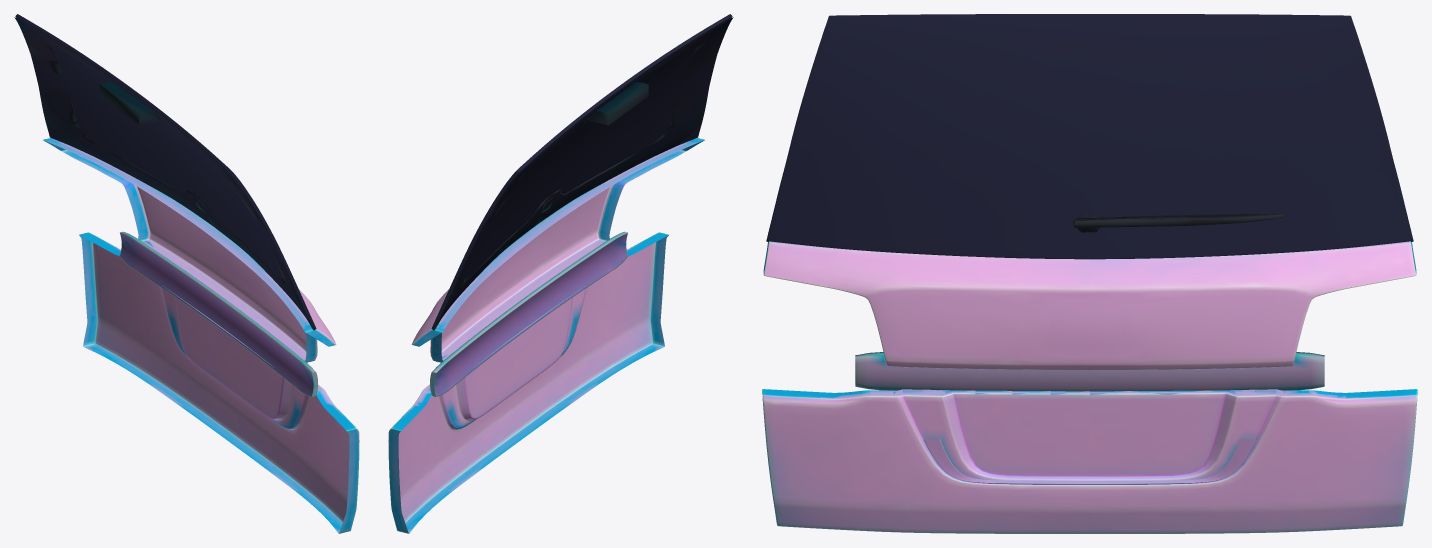
The model's file is tailgate.glb.
The picture shows the model from 3 angles, left to right: view 1: azimuth 30°, elevation 25°; view 2: azimuth 150°, elevation 25°; view 3: azimuth 270°, elevation 25°; orthographic projection. The views are drawn at different scales.
Parts seen in each view (by area): view 1: carpaint_6, windowglass_39, Garnish, black_11, black_12; view 2: carpaint_6, windowglass_39, Garnish, black_11, black_12; view 3: carpaint_6, windowglass_39, Garnish, chrome_4, black_12.
Boxes of the visible parts, <box> form: carpaint_6: <box>43,138,359,533</box>; windowglass_39: <box>15,14,316,330</box>; Garnish: <box>120,231,317,396</box>; black_11: <box>14,17,314,330</box>; black_12: <box>99,82,207,213</box>; carpaint_6: <box>388,138,704,533</box>; windowglass_39: <box>431,14,732,330</box>; Garnish: <box>430,231,627,396</box>; black_11: <box>433,17,733,330</box>; black_12: <box>541,82,648,212</box>; carpaint_6: <box>762,241,1417,533</box>; windowglass_39: <box>767,14,1412,259</box>; Garnish: <box>855,352,1324,391</box>; chrome_4: <box>893,389,1285,484</box>; black_12: <box>1073,213,1285,232</box>.
Size of the model in its own units: 0.3883 by 1.14 by 1.48.
